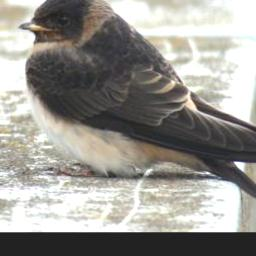Swallow: (16, 0, 256, 209)
